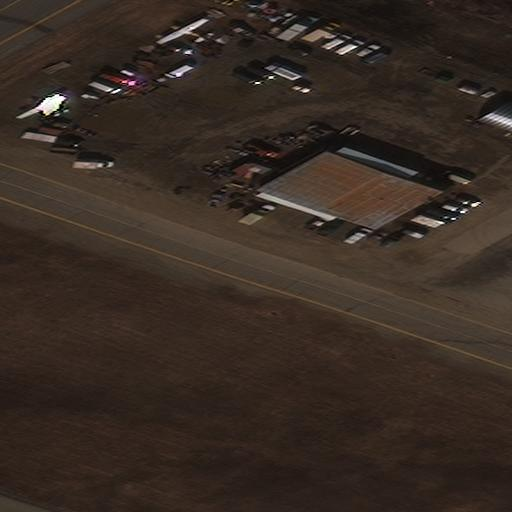Small Civil Transport: (154, 17, 206, 42)
